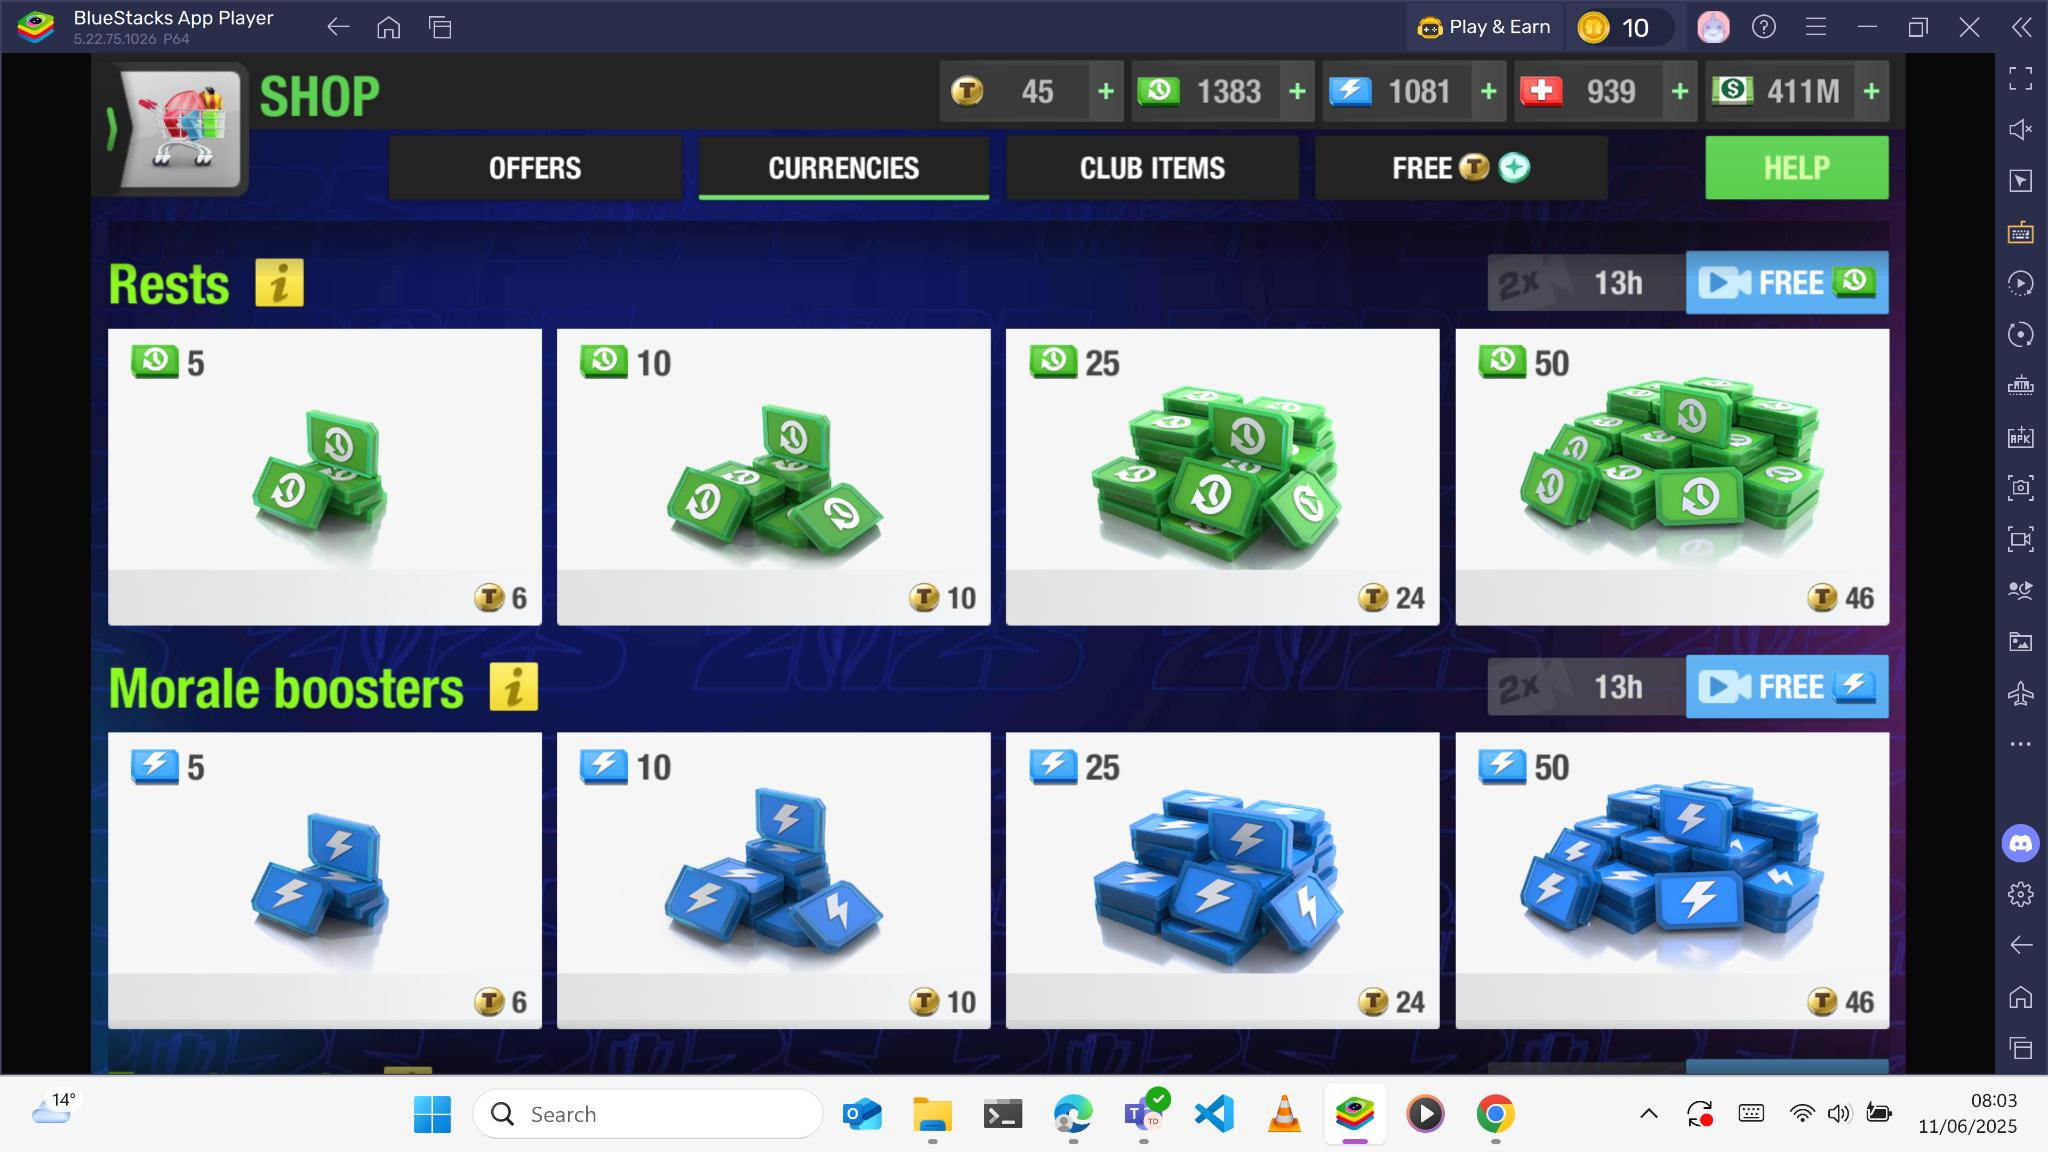cash_pack: (1712, 76, 1754, 107), (1137, 77, 1180, 107)
medic_pack: (1519, 76, 1563, 107)
morale_pack: (1328, 76, 1371, 107)
watch_ads_general: (1685, 250, 1889, 315)
